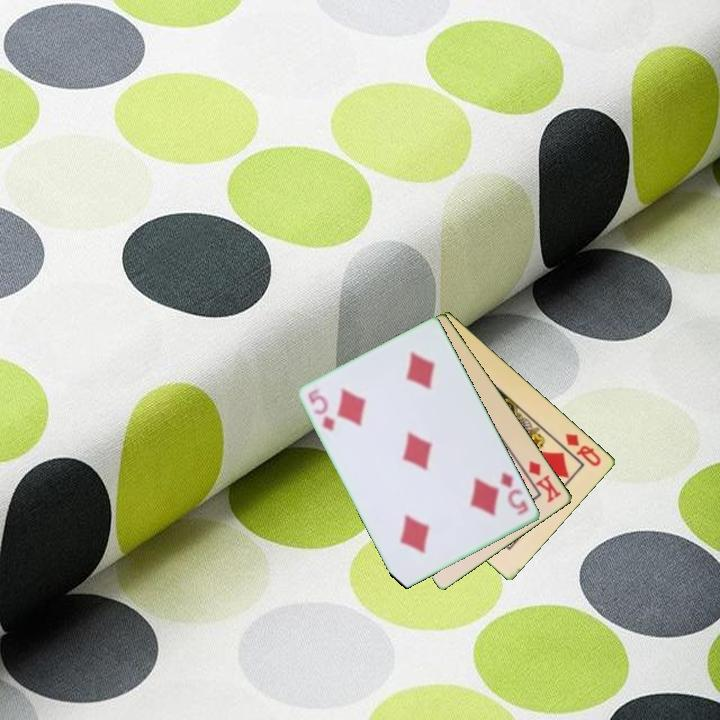5d: (497, 469, 532, 518), (304, 385, 338, 434)
Kd: (525, 457, 564, 506)
Qd: (562, 429, 604, 470)
